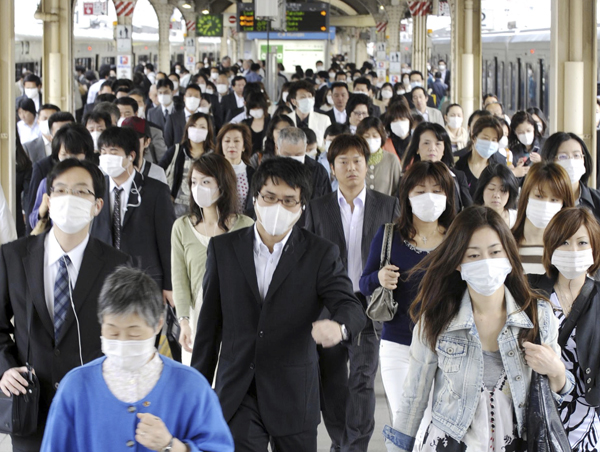mask: (463, 256, 507, 295), (48, 196, 93, 233), (553, 249, 595, 281), (256, 204, 294, 236), (526, 199, 562, 229), (410, 194, 447, 221), (100, 154, 127, 177), (192, 184, 215, 208)
